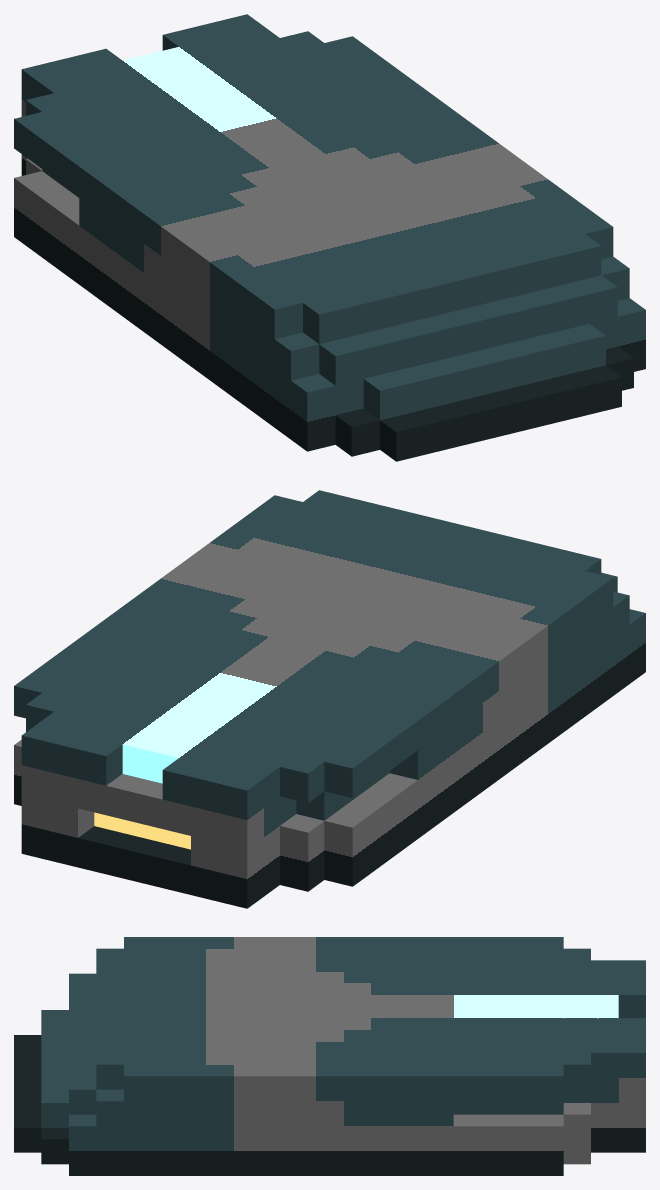
The model's file is MYSZKA.dae.
3 views of the same model, one above another, from view 1: azimuth 30°, elevation 25°; view 2: azimuth 150°, elevation 25°; view 3: azimuth 270°, elevation 25° (orthographic). The views are drawn at different scales.
Visible parts, largest first — view 1: Content; view 2: Content; view 3: Content.
Boxes of the visible parts, x1,y1,x2,y2 form: Content: [14, 14, 645, 461]; Content: [14, 490, 645, 908]; Content: [14, 937, 645, 1175].
Size of the model in its own units: 12 by 4 by 23.
1 material, 1 textured.
